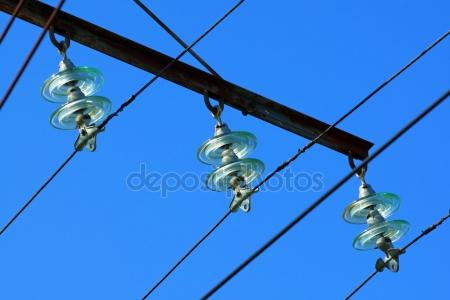isolator: (40, 66, 113, 131), (196, 131, 266, 193), (341, 191, 411, 251)
